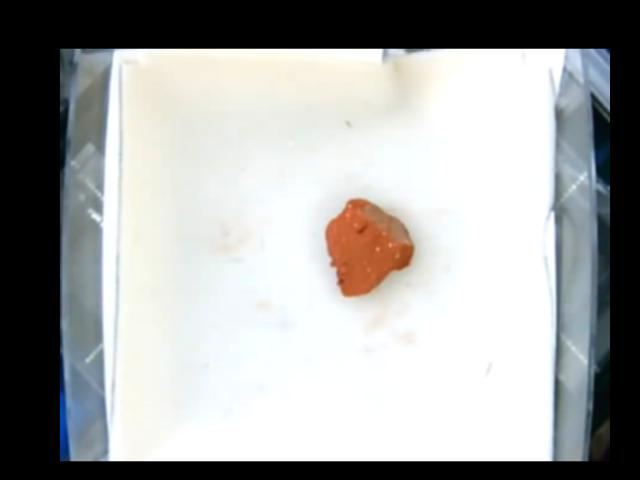Brisk: (323, 197, 413, 297)
